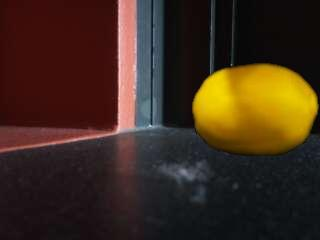Lemon: (191, 61, 320, 154)
